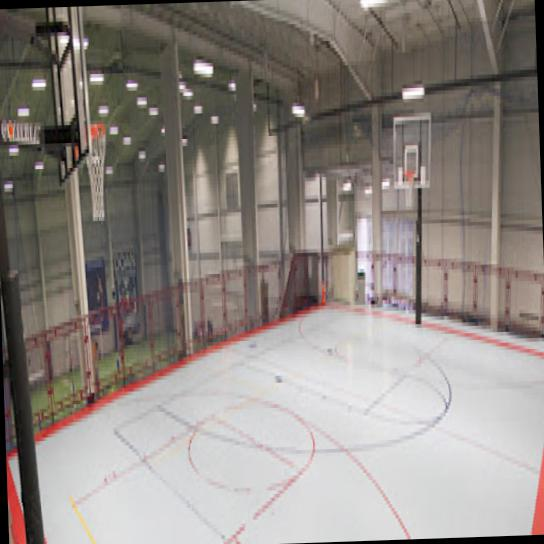basketball-hoop: (82, 124, 110, 221), (402, 167, 414, 210)
